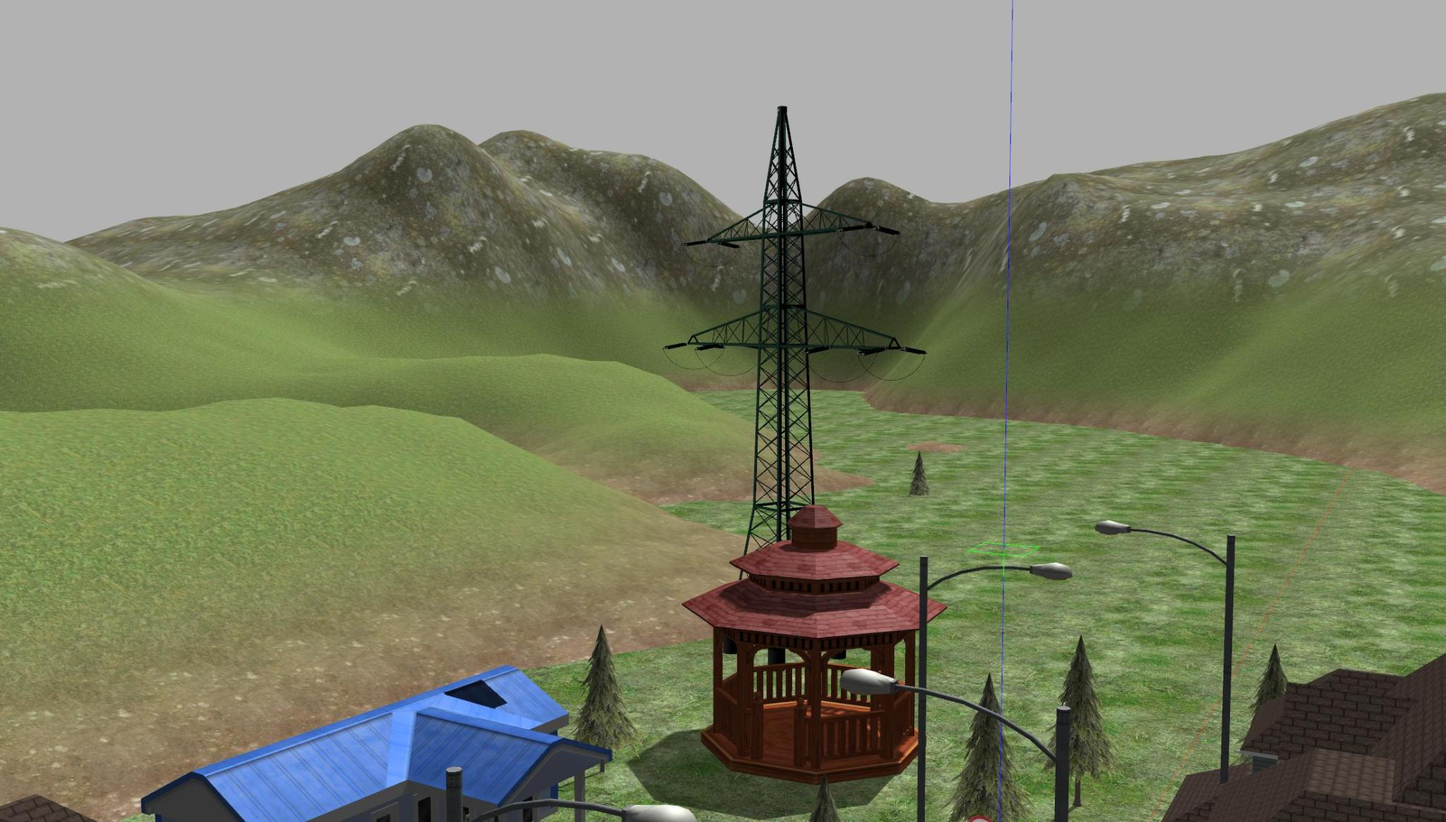tower: (690, 103, 900, 519)
